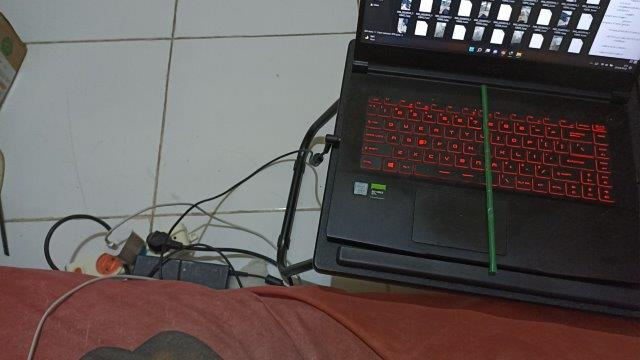sedotan: (481, 85, 497, 272)
